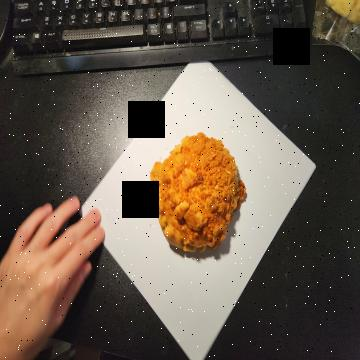soboru_bread: (150, 132, 247, 260)
